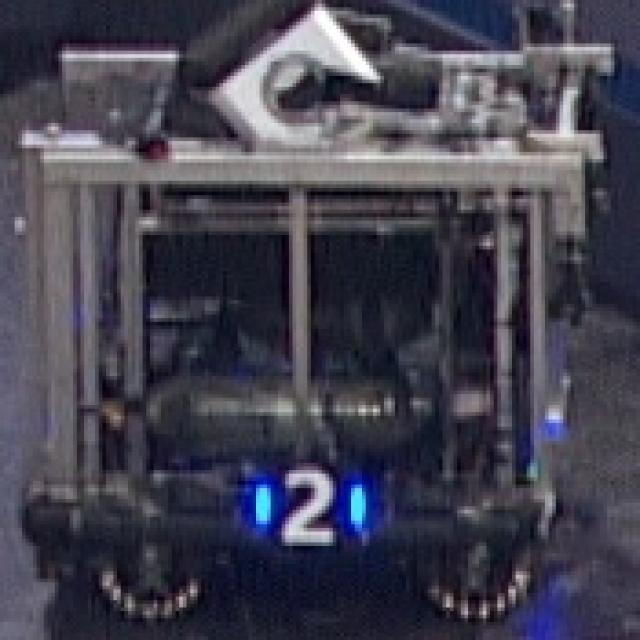B2: (252, 462, 370, 550)
